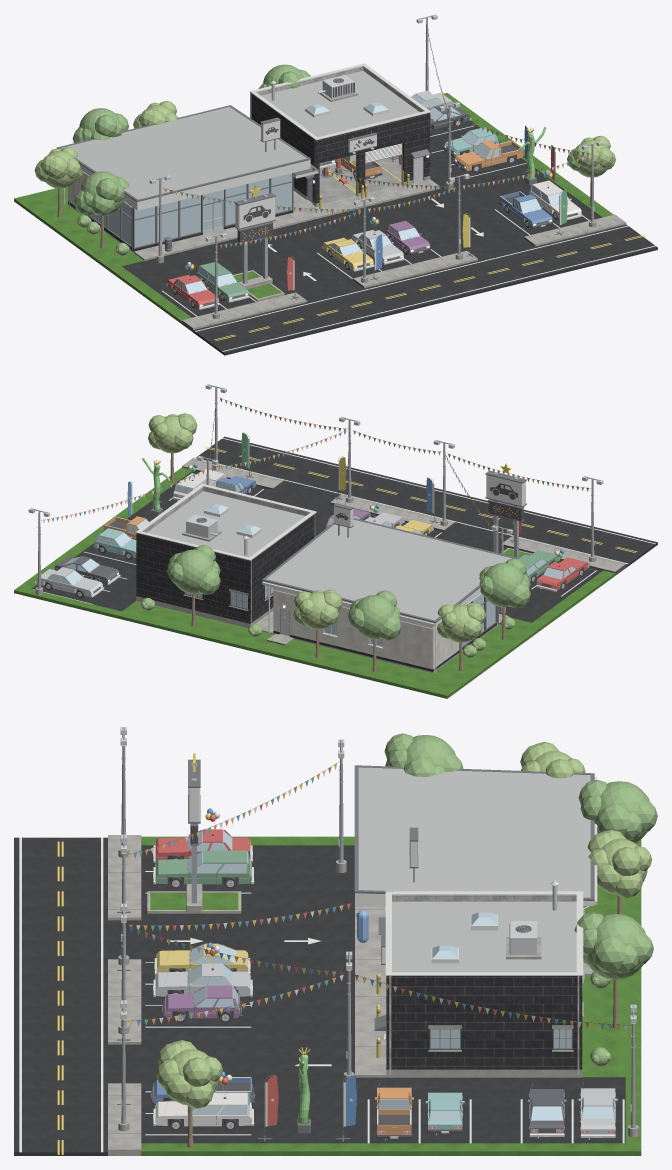
File: building_assembled.glb
The picture shows the model from 3 angles, top to bottom: view 1: azimuth 30°, elevation 25°; view 2: azimuth 150°, elevation 25°; view 3: azimuth 270°, elevation 25°; orthographic projection. The views are drawn at different scales.
Parts seen in each view (by area): view 1: geometry_557, geometry_166, geometry_558, geometry_561, geometry_282, geometry_562, geometry_818, geometry_165, geometry_293, geometry_283, geometry_820, geometry_822 (+25 smaller); view 2: geometry_557, geometry_561, geometry_166, geometry_282, geometry_558, geometry_826, geometry_822, geometry_818, geometry_824, geometry_828, geometry_283, geometry_820 (+23 smaller); view 3: geometry_557, geometry_166, geometry_561, geometry_558, geometry_282, geometry_826, geometry_262, geometry_265, geometry_562, geometry_822, geometry_828, geometry_273 (+26 smaller).
Part boxes in pixels (<box>): geometry_557: <box>122,120,657,355</box>; geometry_166: <box>61,107,306,199</box>; geometry_558: <box>134,179,626,329</box>; geometry_561: <box>14,93,613,323</box>; geometry_282: <box>261,71,419,137</box>; geometry_562: <box>162,125,655,351</box>; geometry_818: <box>74,171,128,215</box>; geometry_165: <box>79,160,310,210</box>; geometry_293: <box>319,152,401,203</box>; geometry_283: <box>249,63,430,140</box>; geometry_820: <box>34,146,83,188</box>; geometry_822: <box>72,108,128,143</box>; geometry_557: <box>31,436,657,622</box>; geometry_561: <box>14,467,615,698</box>; geometry_166: <box>266,519,511,620</box>; geometry_282: <box>147,491,305,557</box>; geometry_558: <box>182,458,625,644</box>; geometry_826: <box>167,545,220,594</box>; geometry_822: <box>348,590,401,640</box>; geometry_818: <box>479,558,530,608</box>; geometry_824: <box>293,589,342,629</box>; geometry_828: <box>148,413,197,453</box>; geometry_283: <box>135,483,316,560</box>; geometry_820: <box>437,602,485,642</box>; geometry_557: <box>14,837,625,1155</box>; geometry_166: <box>358,767,590,897</box>; geometry_561: <box>141,836,641,1155</box>; geometry_558: <box>108,835,593,1155</box>; geometry_282: <box>392,901,576,972</box>; geometry_826: <box>574,912,653,979</box>; geometry_262: <box>504,976,543,1069</box>; geometry_265: <box>464,976,503,1069</box>; geometry_562: <box>19,837,624,1152</box>; geometry_822: <box>578,780,657,843</box>; geometry_828: <box>156,1040,222,1108</box>; geometry_273: <box>391,976,425,1069</box>.
Bounding box in the file's own units: 40.07 × 8.67 × 32.86.
Materials: 71 (12 with a texture image).
